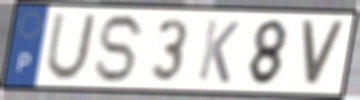3: (148, 18, 189, 84)
8: (244, 17, 291, 89)
K: (195, 17, 242, 86)
S: (92, 12, 149, 85)
U: (43, 13, 100, 84)
V: (299, 18, 348, 90)
